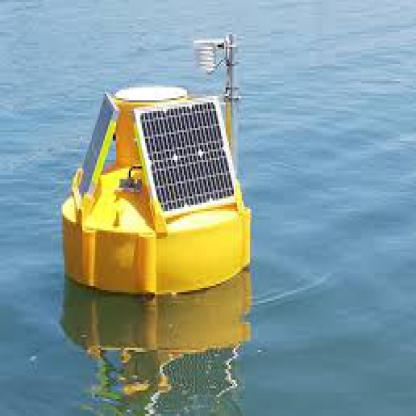buoy: (52, 26, 258, 298)
